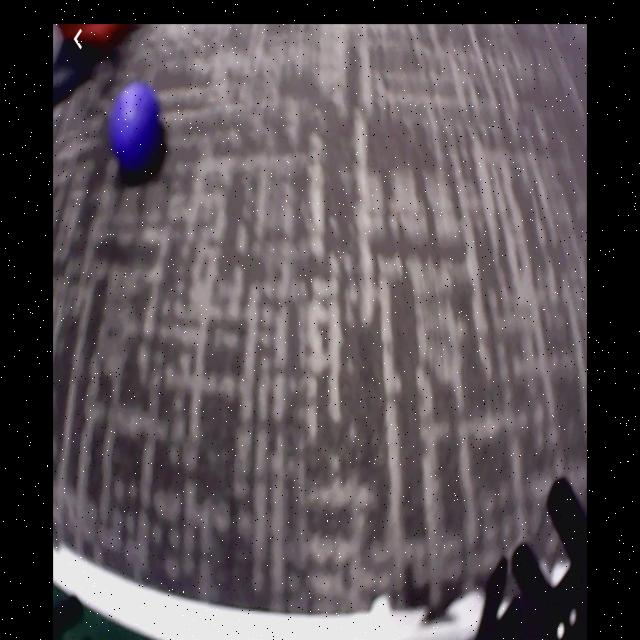ball: (110, 84, 161, 167)
